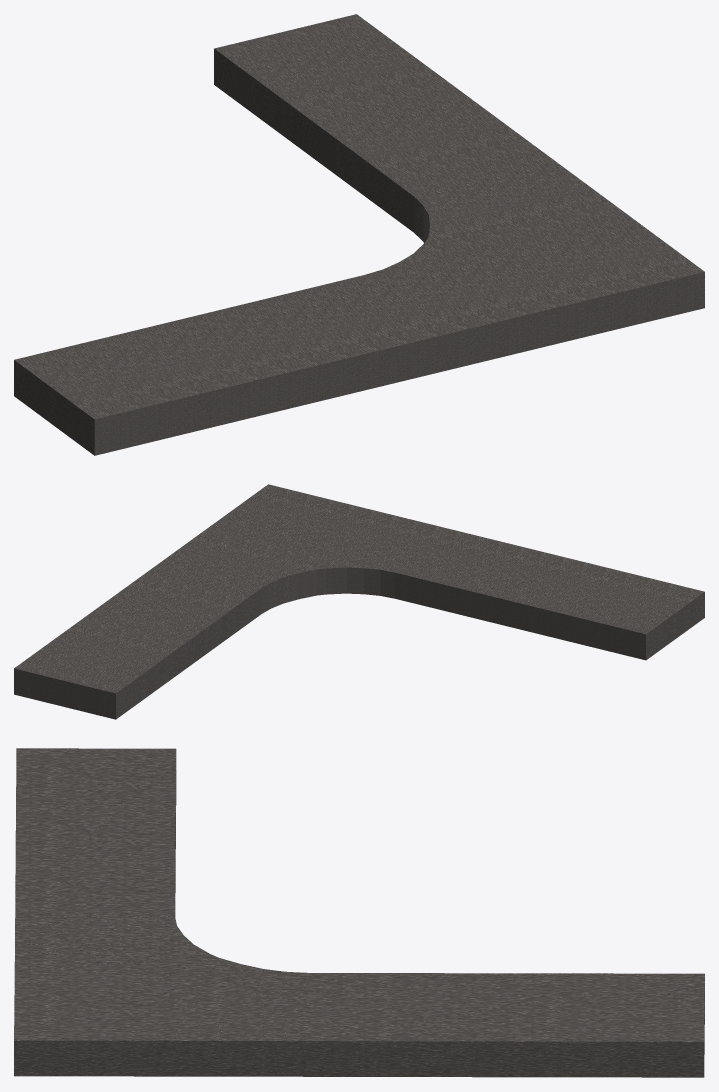
Rendered from Straße2.fbx.
3 views of the same model, one above another, from view 1: azimuth 30°, elevation 25°; view 2: azimuth 150°, elevation 25°; view 3: azimuth 270°, elevation 25° (orthographic). The views are drawn at different scales.
Parts seen in each view (by area): view 1: Cube.001; view 2: Cube.001; view 3: Cube.001.
Part boxes in pixels (x1,y1,x2,y2): Cube.001: (14, 14, 704, 455); Cube.001: (14, 484, 704, 719); Cube.001: (14, 748, 704, 1077).
Bounding box in the file's own units: 1171 × 1165 × 66.51.
1 material, 1 textured.
